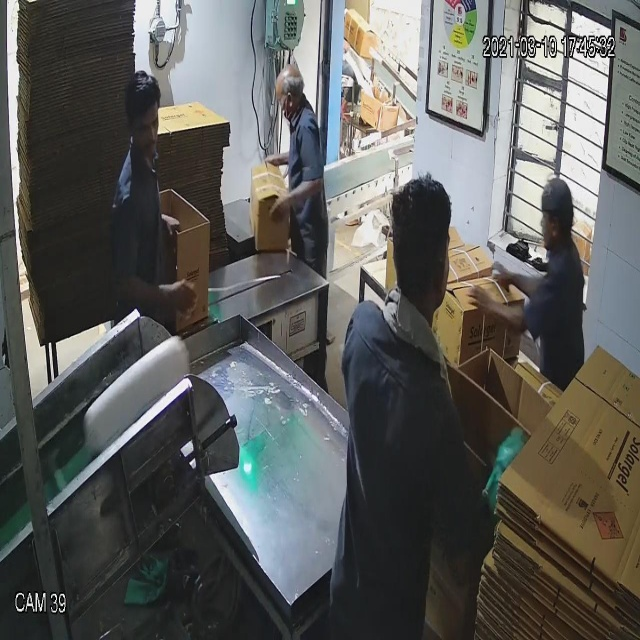Sin_guantes: (109, 255, 204, 330), (464, 268, 530, 349), (262, 172, 323, 235), (262, 138, 306, 180)
